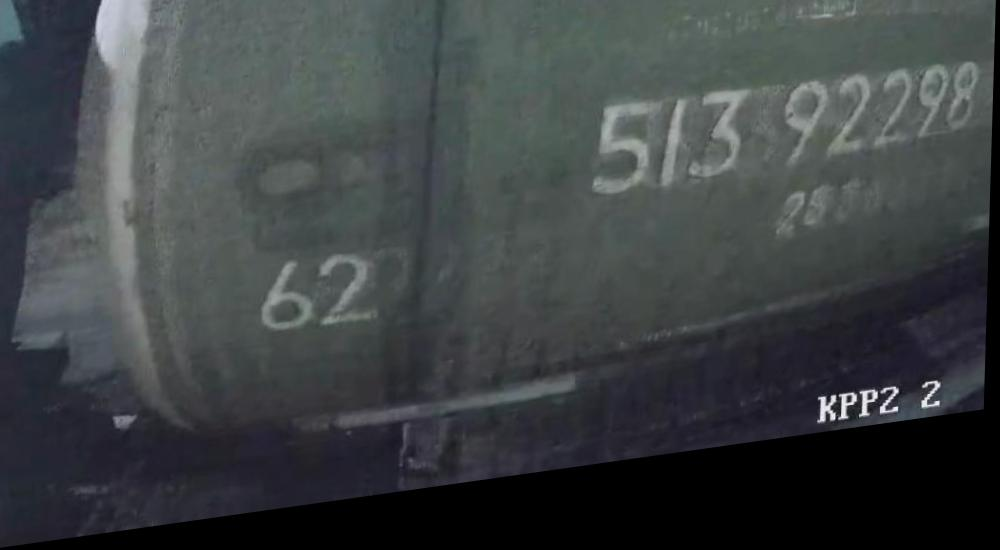Wagon-number: (587, 73, 986, 223)
